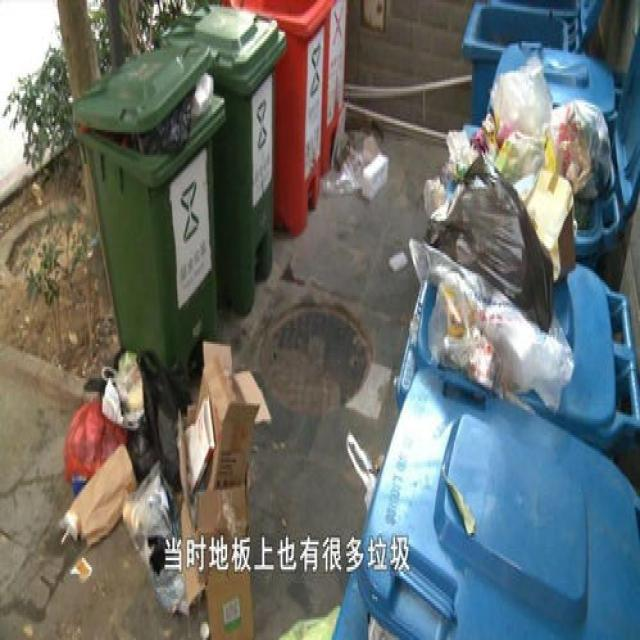garbage: (391, 64, 611, 414), (56, 339, 270, 638), (321, 125, 390, 198)
garbage_bin: (214, 2, 286, 312), (273, 0, 344, 237)
overflow: (73, 41, 226, 378)
